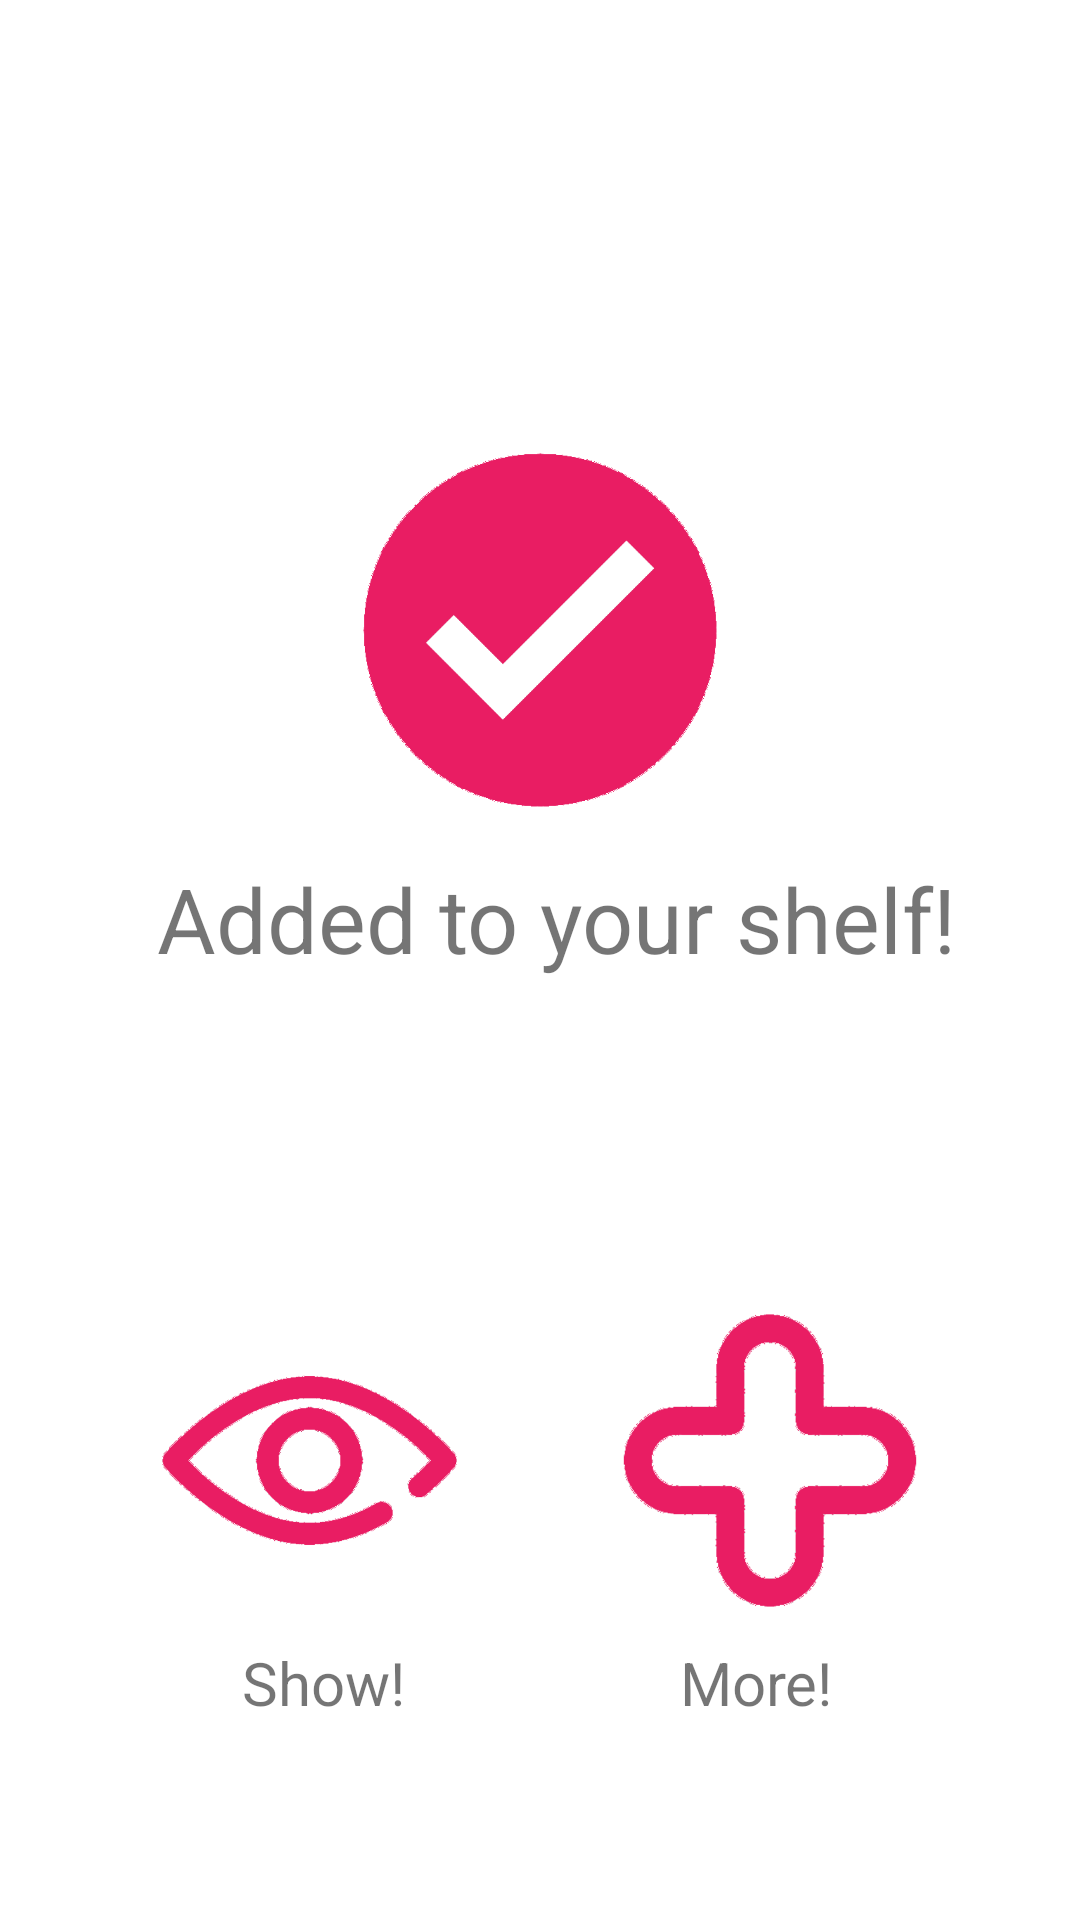

Point at icon controls on the screen. Image size 1080w x 1920h, points as point (x, y).
addbook: point (770, 1460)
